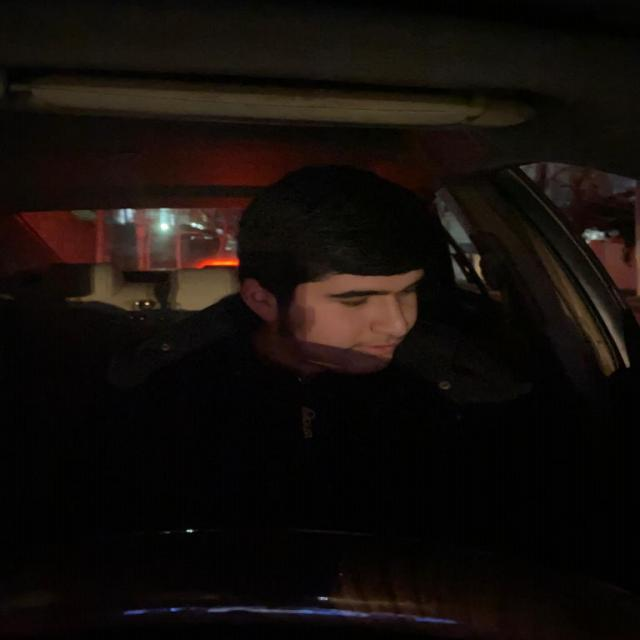drowsy: (234, 162, 433, 378)
